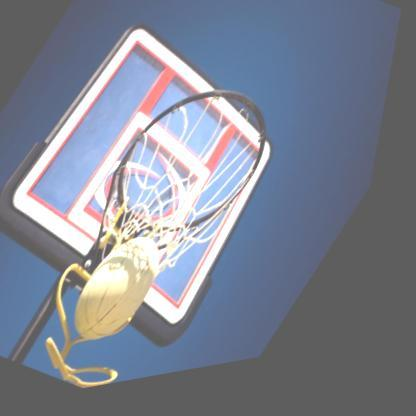basketball: (64, 226, 192, 366)
